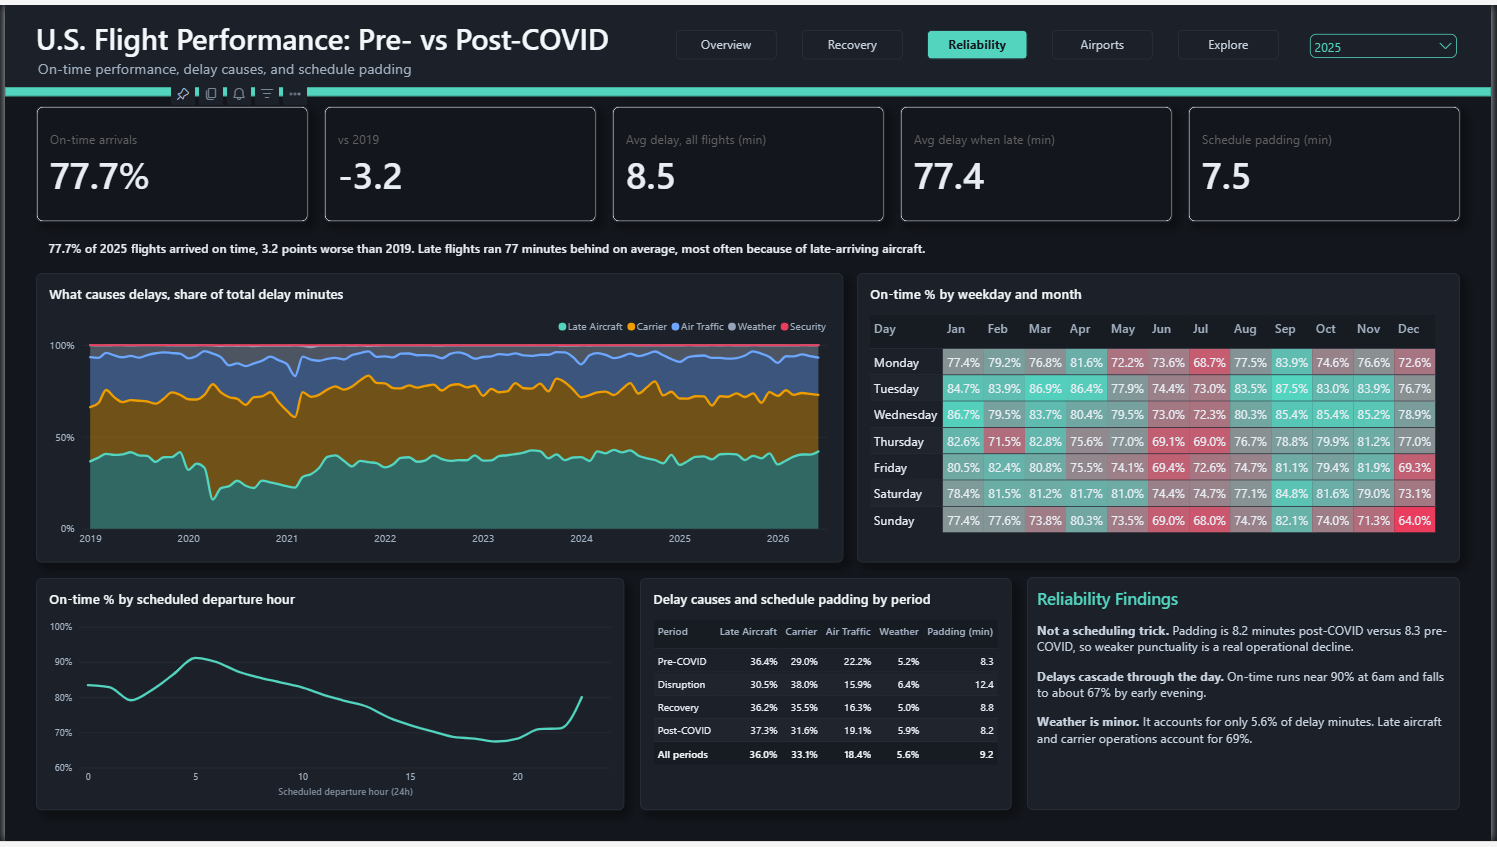

This screenshot's page, from the dashboard's own definition file:
{"tool":"powerbi","page":{"name":"Reliability","canvas":[1920,1080],"ordinal":2},"visuals":[{"type":"shape","box":[0,0,1920,110],"z":0},{"type":"shape","box":[0,106,1920,12],"z":1000},{"type":"textbox","box":[39.9,18.6,1013.5,66.5],"z":2000},{"type":"textbox","box":[42,70,900,30],"z":3000},{"type":"slicer","fields":{"Values":["dim_date.year"]},"box":[1681.2,31.9,199.5,45.2],"z":4000},{"type":"cardVisual","fields":{"Data":["_Measures.Narrative Reliability"]},"box":[40,292,1840,44],"z":5000},{"type":"cardVisual","fields":{"Data":["_Measures.On-Time %"]},"box":[40,130,352,150],"z":6000},{"type":"cardVisual","fields":{"Data":["_Measures.On-Time vs 2019 pts"]},"box":[412,130,352,150],"z":7000},{"type":"cardVisual","fields":{"Data":["_Measures.Avg Arrival Delay"]},"box":[784,130,352,150],"z":8000},{"type":"cardVisual","fields":{"Data":["_Measures.Avg Delay When Late"]},"box":[1156,130,352,150],"z":9000},{"type":"cardVisual","fields":{"Data":["_Measures.Schedule Padding"]},"box":[1528,130,352,150],"z":10000},{"type":"hundredPercentStackedAreaChart","title":"What causes delays, share of total delay minutes","fields":{"Category":["dim_date.month_start_date"],"Y":["_Measures.Late Aircraft Delay Minutes","_Measures.Carrier Delay Minutes","_Measures.NAS Delay Minutes","_Measures.Weather Delay Minutes","_Measures.Security Delay Minutes"]},"box":[39.9,345.8,1042.8,373.7],"z":11000},{"type":"lineChart","title":"On-time % by scheduled departure hour","fields":{"Category":["fact_flights.scheduled_departure_hour"],"Y":["_Measures.On-Time %"]},"box":[40,740,760,300],"z":12000},{"type":"tableEx","title":"Delay causes and schedule padding by period","fields":{"Values":["dim_date.covid_period","_Measures.Late Aircraft Delay %","_Measures.Carrier Delay %","_Measures.NAS Delay %","_Measures.Weather Delay %","_Measures.Schedule Padding"]},"box":[820,740,480,300],"z":13000},{"type":"textbox","box":[1320.7,739.5,558.6,300.6],"z":14000},{"type":"pivotTable","title":"On-time % by weekday and month","fields":{"Columns":["dim_date.month_short"],"Rows":["dim_date.day_name"],"Values":["_Measures.On-Time %"]},"box":[1101.3,345.8,779.4,373.7],"z":15000},{"type":"actionButton","box":[867.2,31.9,130,38],"z":16000},{"type":"actionButton","box":[1029.1,31.9,130,38],"z":17000},{"type":"actionButton","box":[1353,31.9,130,38],"z":18000},{"type":"actionButton","box":[1191.1,31.9,130,38],"z":19000},{"type":"actionButton","box":[1514.9,31.9,130,38],"z":20000}]}

Visuals, with their boxes on the page's 1920x1080 design canvas (x1, y1, x2, y2). These are canvas units, not pixel positions in the 1497x847 screenshot, which may show the page scaled, cropped or inside an application window:
shape: BBox(0, 0, 1920, 110)
shape: BBox(0, 106, 1920, 118)
textbox: BBox(40, 19, 1053, 85)
textbox: BBox(42, 70, 942, 100)
slicer - dim_date.year: BBox(1681, 32, 1881, 77)
cardVisual - _Measures.Narrative Reliability: BBox(40, 292, 1880, 336)
cardVisual - _Measures.On-Time %: BBox(40, 130, 392, 280)
cardVisual - _Measures.On-Time vs 2019 pts: BBox(412, 130, 764, 280)
cardVisual - _Measures.Avg Arrival Delay: BBox(784, 130, 1136, 280)
cardVisual - _Measures.Avg Delay When Late: BBox(1156, 130, 1508, 280)
cardVisual - _Measures.Schedule Padding: BBox(1528, 130, 1880, 280)
"What causes delays, share of total delay minutes" hundredPercentStackedAreaChart: BBox(40, 346, 1083, 720)
"On-time % by scheduled departure hour" lineChart: BBox(40, 740, 800, 1040)
"Delay causes and schedule padding by period" tableEx: BBox(820, 740, 1300, 1040)
textbox: BBox(1321, 740, 1879, 1040)
"On-time % by weekday and month" pivotTable: BBox(1101, 346, 1881, 720)
actionButton: BBox(867, 32, 997, 70)
actionButton: BBox(1029, 32, 1159, 70)
actionButton: BBox(1353, 32, 1483, 70)
actionButton: BBox(1191, 32, 1321, 70)
actionButton: BBox(1515, 32, 1645, 70)
